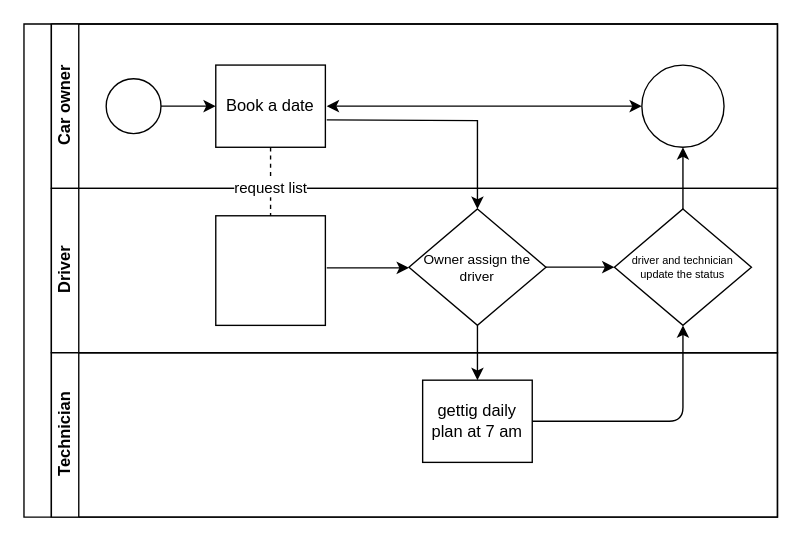
The diagram is 801 pixels wide and 541 high, and some of its shapes have lost their labels. The centre of each missing label's shape, as x and y in pixels:
"driver offers the service" goes at pixel 269 269.
"login" goes at pixel 133 105.
"service history" goes at pixel 682 105.
